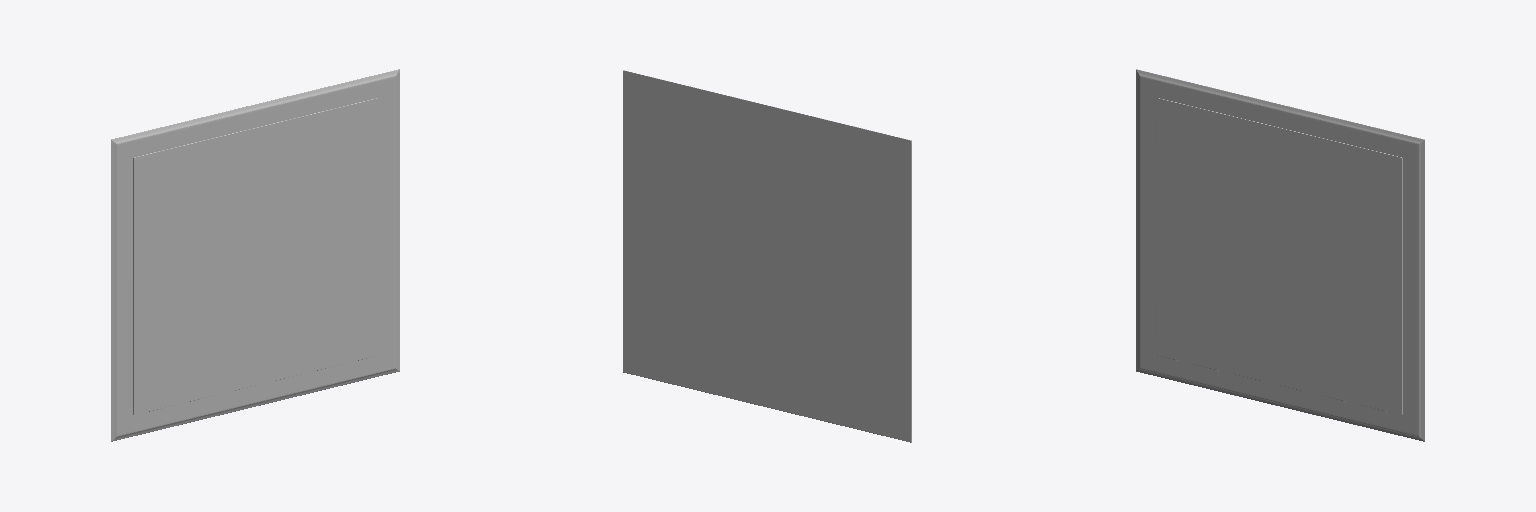
Rendered from galaxyFloor.obj.
3 views of the same model, side by side, from view 1: azimuth 30°, elevation 25°; view 2: azimuth 150°, elevation 25°; view 3: azimuth 330°, elevation 25° (orthographic).
Visible parts, largest first — view 1: 12951_Stone_Chess_Board_v1_L3.001; view 2: 12951_Stone_Chess_Board_v1_L3.001; view 3: 12951_Stone_Chess_Board_v1_L3.001.
Boxes of the visible parts, <box> form: 12951_Stone_Chess_Board_v1_L3.001: <box>111,69,399,441</box>; 12951_Stone_Chess_Board_v1_L3.001: <box>623,70,911,442</box>; 12951_Stone_Chess_Board_v1_L3.001: <box>1136,69,1424,441</box>.
Bounding box in the file's own units: 43.93 × 43.93 × 0.4354.